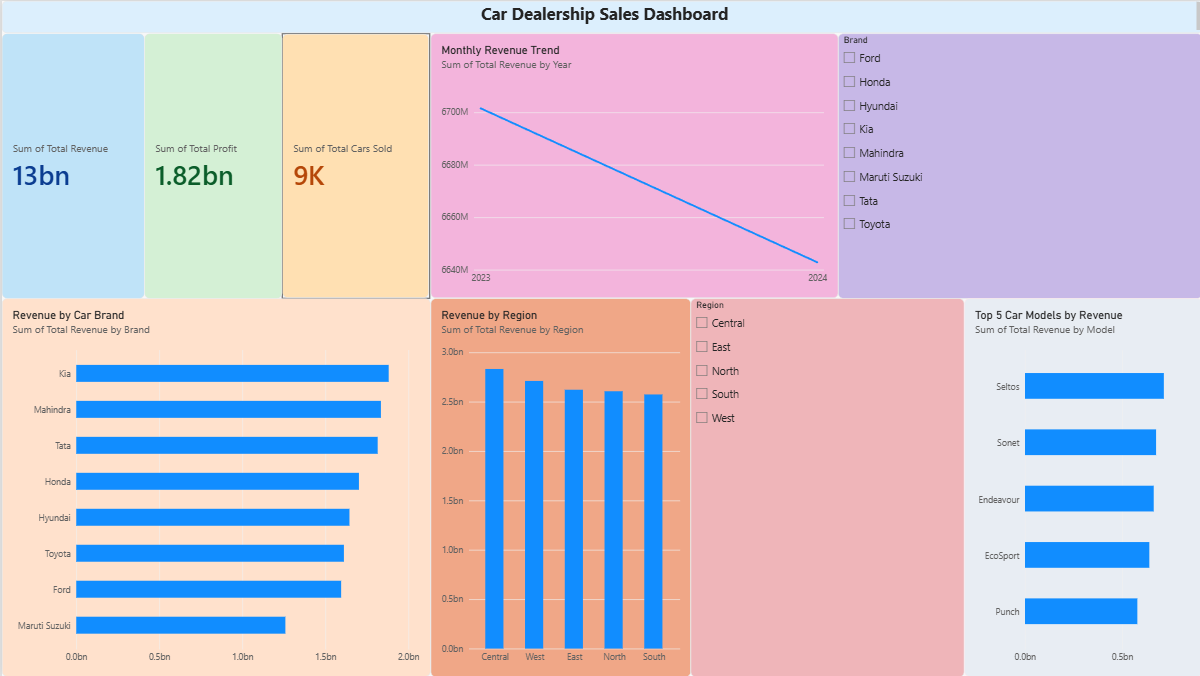

This screenshot's page, from the dashboard's own definition file:
{"tool":"powerbi","page":{"name":"Page 1","canvas":[1920,1080],"ordinal":0},"visuals":[{"type":"cardVisual","fields":{"Data":["Sum(car_sales.Units_Sold)"]},"box":[448.7,51.5,236.7,424],"z":1000},{"type":"clusteredBarChart","title":"Revenue by Car Brand","fields":{"Category":["car_sales.Brand"],"Y":["Sum(car_sales.Revenue)"]},"box":[0,475.5,685.4,605.1],"z":2000},{"type":"clusteredColumnChart","title":"Revenue by Region","fields":{"Category":["car_sales.Region"],"Y":["Sum(car_sales.Revenue)"]},"box":[685.7,475,416.1,605.4],"z":3000},{"type":"lineChart","title":"Monthly Revenue Trend","fields":{"Category":["car_sales.Sale_Date.Variation.Date Hierarchy.Year","car_sales.Sale_Date.Variation.Date Hierarchy.Quarter","car_sales.Sale_Date.Variation.Date Hierarchy.Month","car_sales.Sale_Date.Variation.Date Hierarchy.Day"],"Y":["Sum(car_sales.Revenue)"]},"box":[685.7,51.8,651.8,423.2],"z":4000},{"type":"slicer","fields":{"Values":["car_sales.Brand"]},"box":[1337.9,51.5,582.5,424],"z":5000},{"type":"slicer","fields":{"Values":["car_sales.Region"]},"box":[1101.8,475,437.5,605.4],"z":6000},{"type":"clusteredBarChart","title":"Top 5 Car Models by Revenue","fields":{"Category":["car_sales.Model"],"Y":["Sum(car_sales.Revenue)"]},"box":[1539.6,475.5,380.8,605.1],"z":7000},{"type":"textbox","box":[0,0,1920.4,51.5],"z":8000},{"type":"cardVisual","fields":{"Data":["Sum(car_sales.Revenue)"]},"box":[0,51.5,228.5,424],"z":8001},{"type":"cardVisual","fields":{"Data":["Sum(car_sales.Profit)"]},"box":[228.5,51.5,220.2,424],"z":8002}]}

Visuals, with their boxes in screenshot pixels (x1, y1, x2, y2), scaled from the page's 1920x1080 canvas onto the 1200x676 screenshot:
cardVisual - Sum(car_sales.Units_Sold): [x1=280, y1=32, x2=428, y2=298]
"Revenue by Car Brand" clusteredBarChart: [x1=0, y1=298, x2=428, y2=675]
"Revenue by Region" clusteredColumnChart: [x1=429, y1=297, x2=689, y2=675]
"Monthly Revenue Trend" lineChart: [x1=429, y1=32, x2=836, y2=297]
slicer - car_sales.Brand: [x1=836, y1=32, x2=1199, y2=298]
slicer - car_sales.Region: [x1=689, y1=297, x2=962, y2=675]
"Top 5 Car Models by Revenue" clusteredBarChart: [x1=962, y1=298, x2=1199, y2=675]
textbox: [x1=0, y1=0, x2=1199, y2=32]
cardVisual - Sum(car_sales.Revenue): [x1=0, y1=32, x2=143, y2=298]
cardVisual - Sum(car_sales.Profit): [x1=143, y1=32, x2=280, y2=298]
